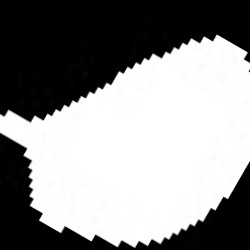spot: (1, 35, 248, 247)
